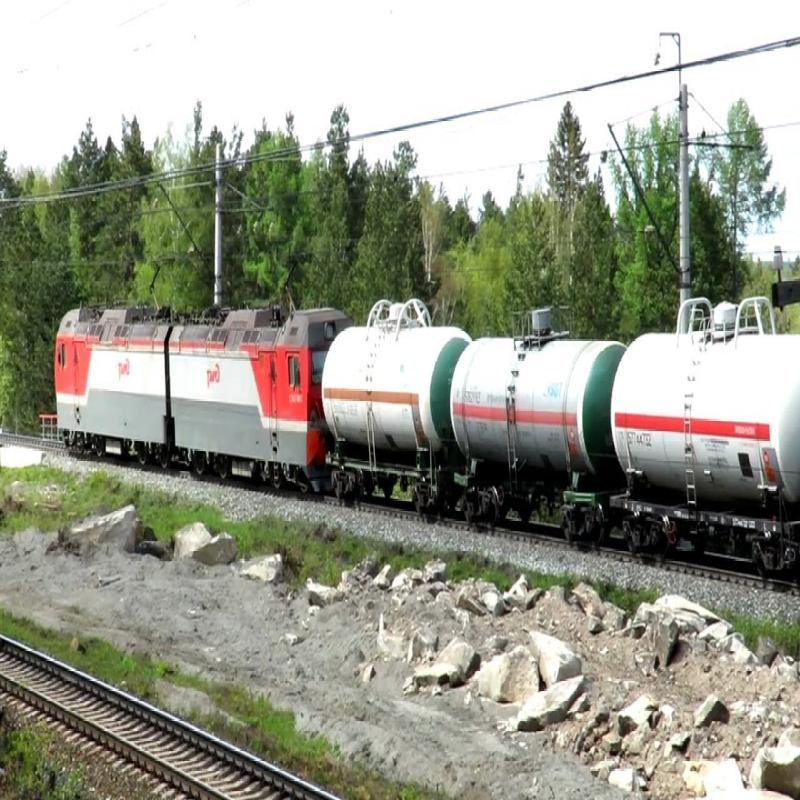train: (40, 264, 348, 521), (603, 314, 800, 583), (451, 310, 640, 541), (322, 291, 485, 532)
